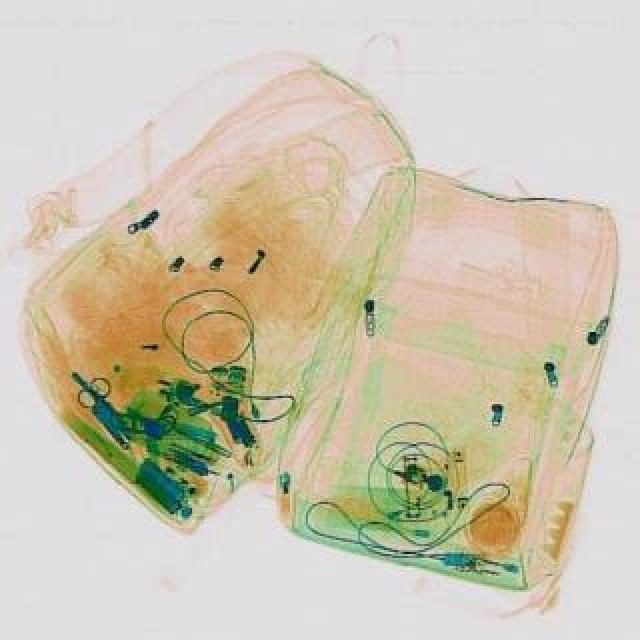pliers: (68, 370, 146, 446)
